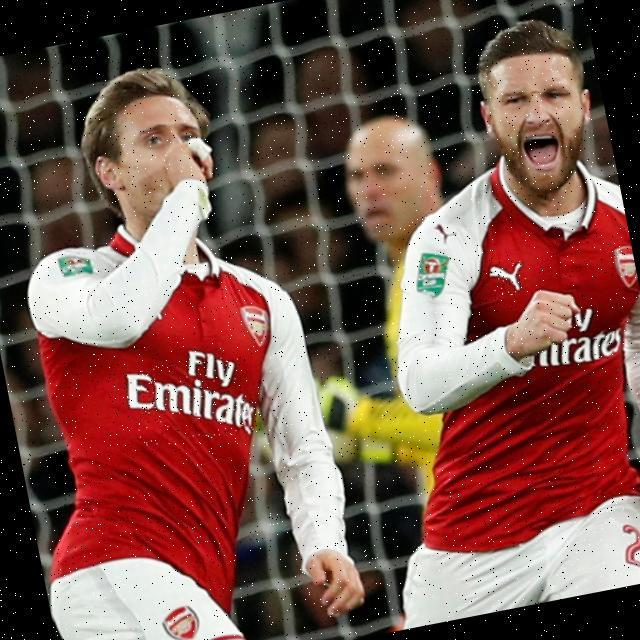Emirates: (123, 348, 259, 453), (533, 327, 627, 372)
Puma: (489, 260, 531, 300)
